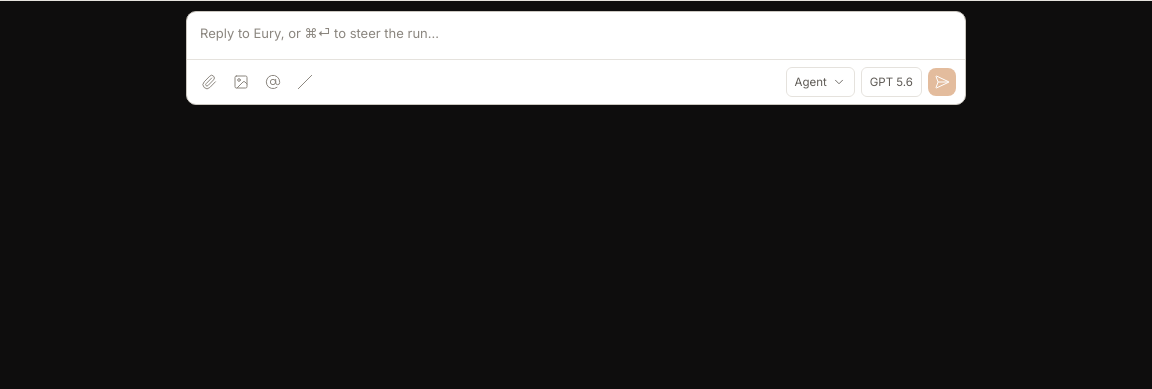
Composer mode picker › reports the picked mode and closes
The width and height of the screenshot is (1152, 389).
Click the button with class "select" showing "Agent".
click(820, 82)  # box [786,67,855,97]
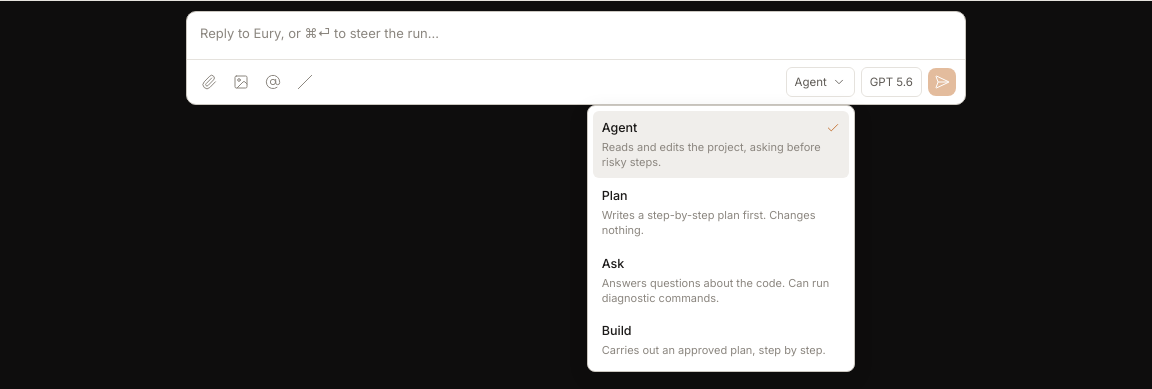
Click the option with class "mode-picker-item" that starts with "Plan".
click(721, 212)  # box [593,179,849,246]
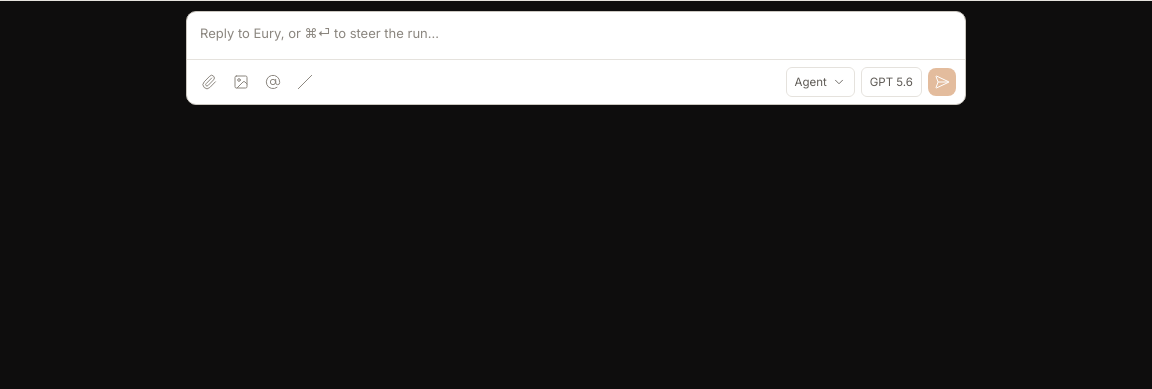
Now the list with class "mode-picker-menu" is gone
